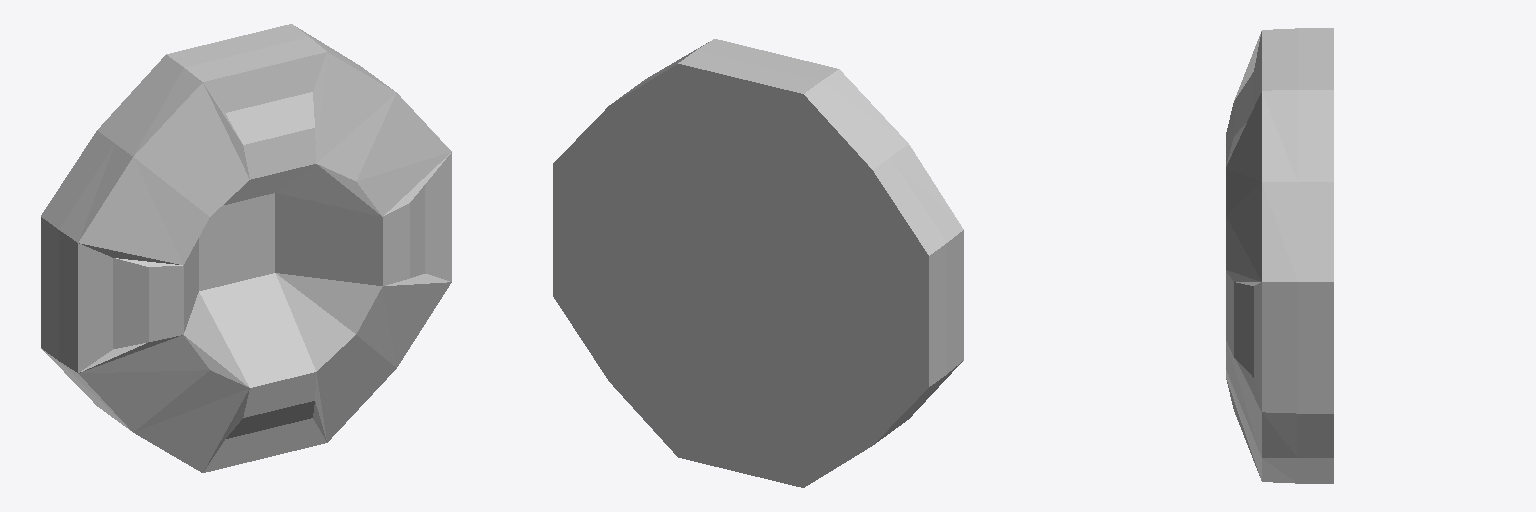
Rendered from Exploiter_Spinner_1.obj.
3 views of the same model, side by side, from view 1: azimuth 30°, elevation 25°; view 2: azimuth 150°, elevation 25°; view 3: azimuth 270°, elevation 25° (orthographic).
Parts seen in each view (by area): view 1: Cube.001_Cube.008; view 2: Cube.001_Cube.008; view 3: Cube.001_Cube.008.
Part boxes in pixels (bbox=[...]): Cube.001_Cube.008: bbox=[41, 24, 451, 472]; Cube.001_Cube.008: bbox=[553, 39, 963, 487]; Cube.001_Cube.008: bbox=[1226, 28, 1333, 483].
Size of the model in its own units: 2 by 2 by 0.5.